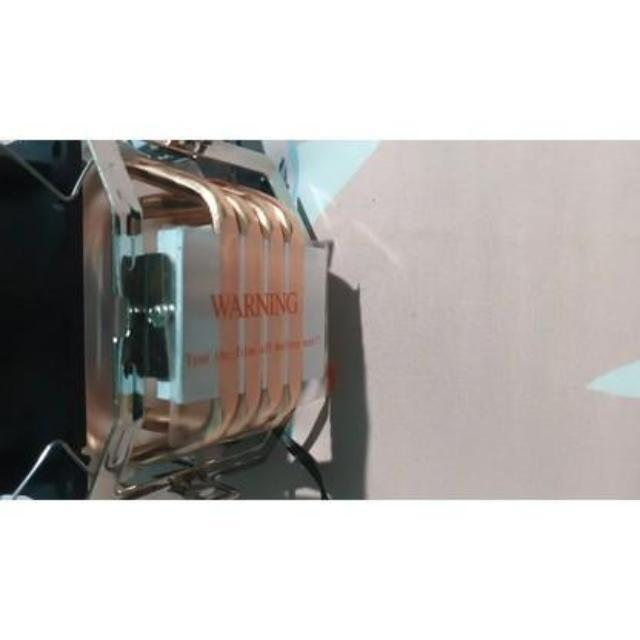CPU_Fan: (0, 135, 335, 502)
